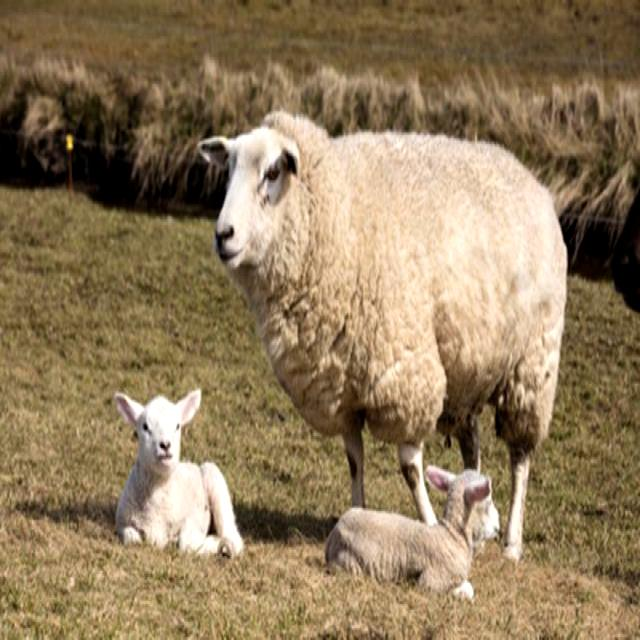sheep: (195, 110, 566, 564), (112, 387, 241, 557)
